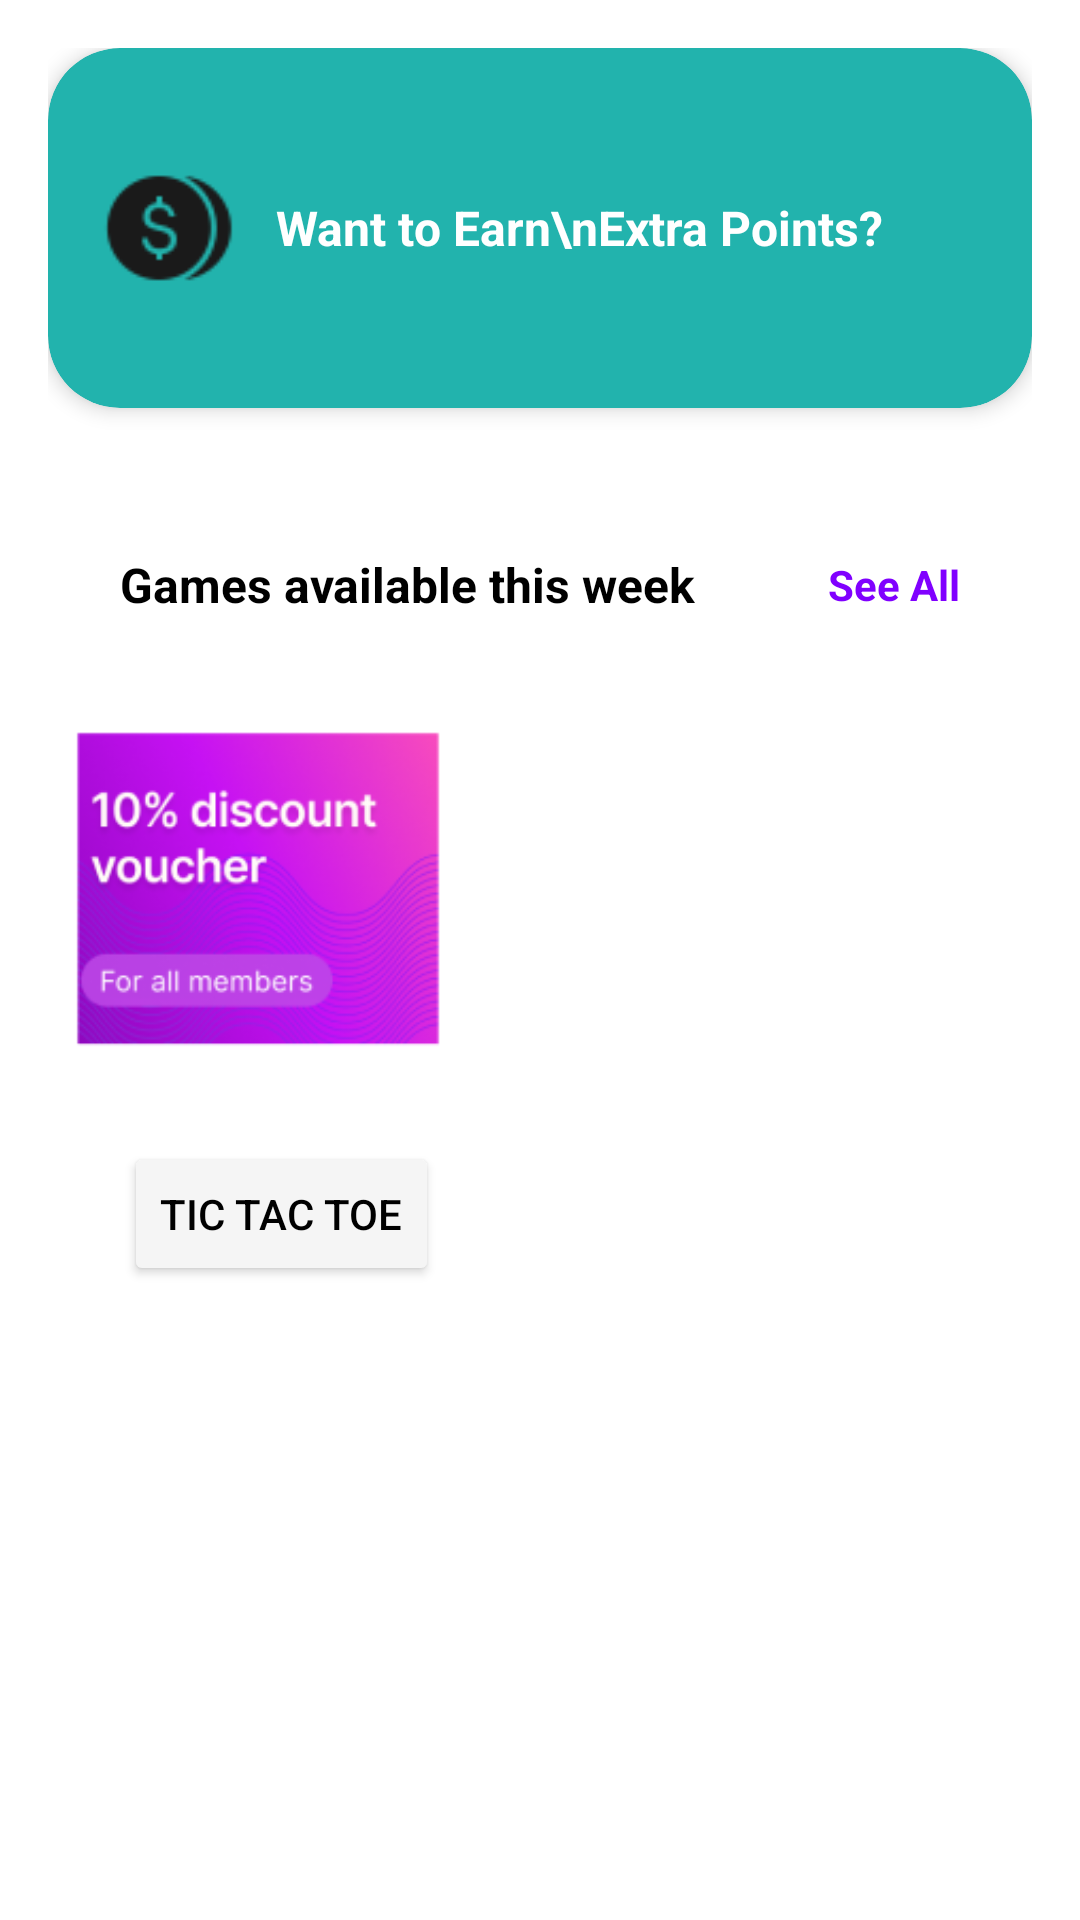

Icon click points for this 1080px×1920px phone screenshot, format [x,y]:
Coin icon: [169,228]
